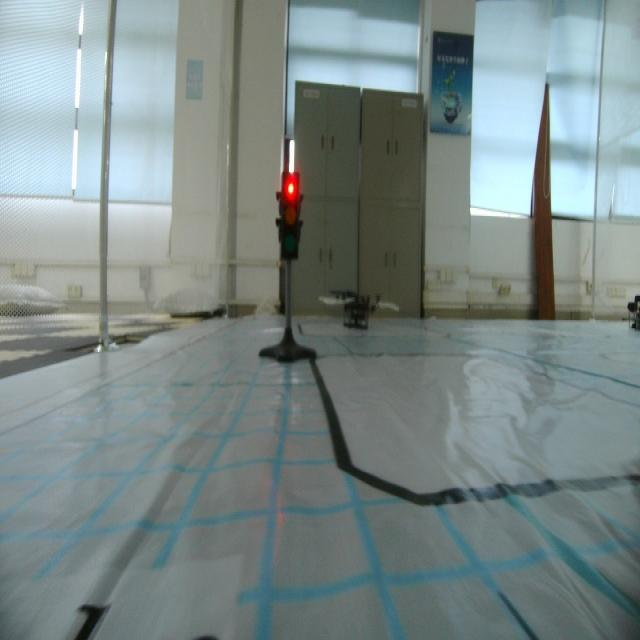red: (278, 171, 302, 263)
